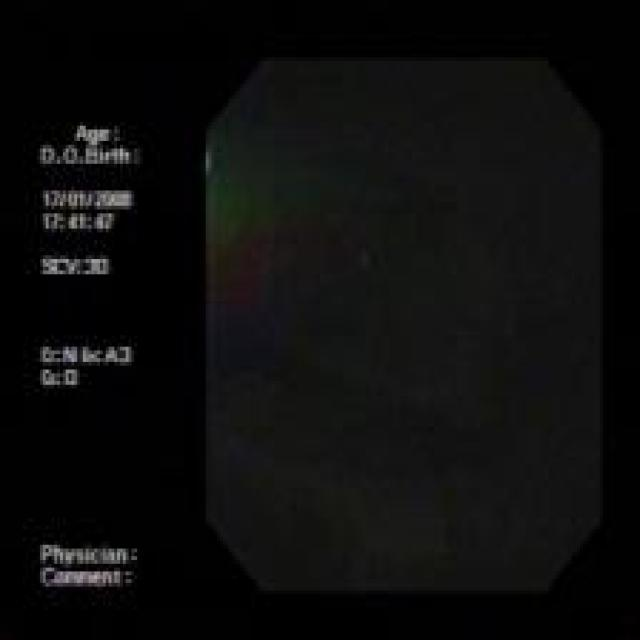color misalignment: (206, 67, 602, 584), (38, 118, 144, 591)
